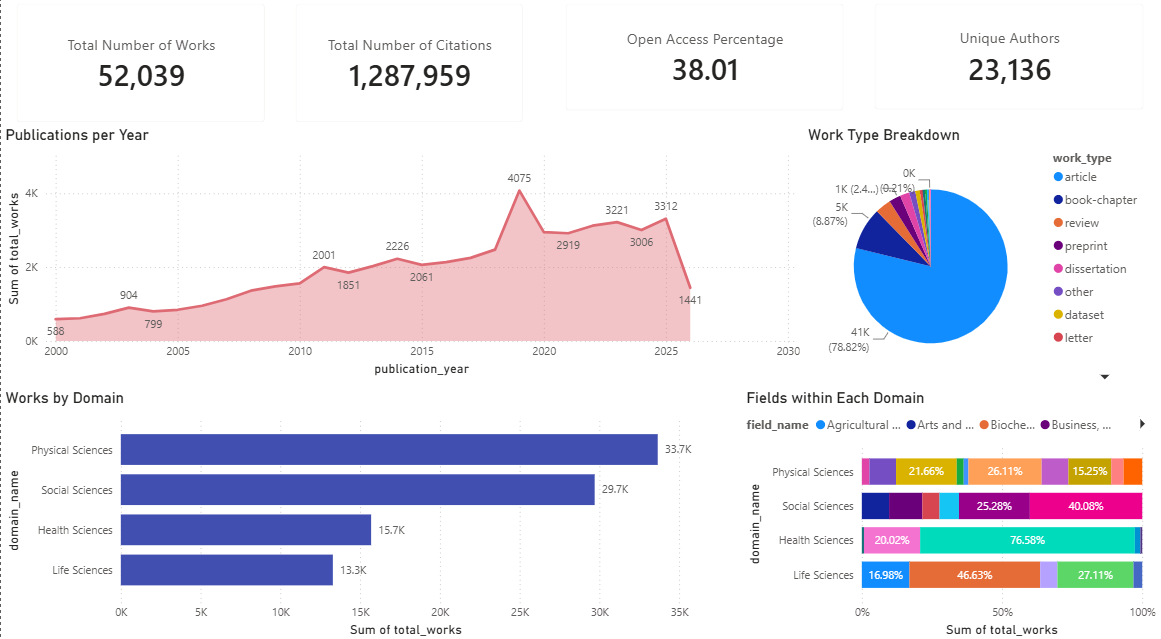

Layout of this report page (visuals, bound fields, positions):
{"tool":"powerbi","page":{"name":"Researh Overview","canvas":[1280,720],"ordinal":0},"visuals":[{"type":"cardVisual","fields":{"Data":["Count(stg_openalex_works.work_id)"]},"box":[0,0,308.3,165],"z":0},{"type":"cardVisual","fields":{"Data":["Sum(stg_openalex_works.cited_by_count)"]},"box":[308.3,0,285,165],"z":1000},{"type":"cardVisual","fields":{"Data":["Sum(total_open_access_stats.total_open_access_percentage)"]},"box":[606.3,0,341.2,152.4],"z":2000},{"type":"cardVisual","fields":{"Data":["Sum(unique_unt_authors.unique_authors)"]},"box":[948.3,0,331.7,151.7],"z":3000},{"type":"areaChart","title":"Publications per Year","fields":{"Category":["publication_volume_trend.publication_year"],"Y":["Sum(publication_volume_trend.total_works)"]},"box":[0,151.7,886.7,280],"z":4000},{"type":"pieChart","title":"Work Type Breakdown","fields":{"Category":["work_type_stats.work_type"],"Y":["Sum(work_type_stats.total_works)"]},"box":[886.7,151.7,393.3,290],"z":5000},{"type":"hundredPercentStackedBarChart","title":"Fields within Each Domain","fields":{"Category":["domain_field_stats.domain_name"],"Series":["domain_field_stats.field_name"],"Y":["Sum(domain_field_stats.total_works)"]},"box":[818.3,441.7,461.7,278.3],"z":6000},{"type":"barChart","title":"Works by Domain","fields":{"Category":["domain_field_stats.domain_name"],"Y":["Sum(domain_field_stats.total_works)"]},"box":[0,442.3,776.9,278.3],"z":7000}]}

Visuals, with their boxes in screenshot pixels (x1, y1, x2, y2), scaled from the page's 1280x720 canvas onto the 1161x639 screenshot:
cardVisual - Count(stg_openalex_works.work_id): l=0, t=0, r=280, b=146
cardVisual - Sum(stg_openalex_works.cited_by_count): l=280, t=0, r=538, b=146
cardVisual - Sum(total_open_access_stats.total_open_access_percentage): l=550, t=0, r=859, b=135
cardVisual - Sum(unique_unt_authors.unique_authors): l=860, t=0, r=1160, b=135
"Publications per Year" areaChart: l=0, t=135, r=804, b=383
"Work Type Breakdown" pieChart: l=804, t=135, r=1160, b=392
"Fields within Each Domain" hundredPercentStackedBarChart: l=742, t=392, r=1160, b=638
"Works by Domain" barChart: l=0, t=393, r=705, b=638
